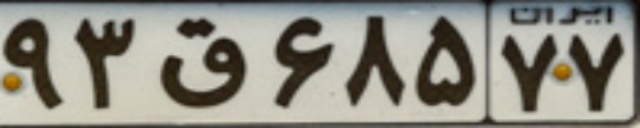3: (73, 17, 140, 108)
5: (415, 14, 477, 106)
6: (271, 15, 335, 107)
7: (569, 31, 626, 111), (501, 32, 557, 113)
8: (346, 13, 403, 105)
9: (3, 17, 65, 110)
ghaf: (159, 18, 247, 109)
